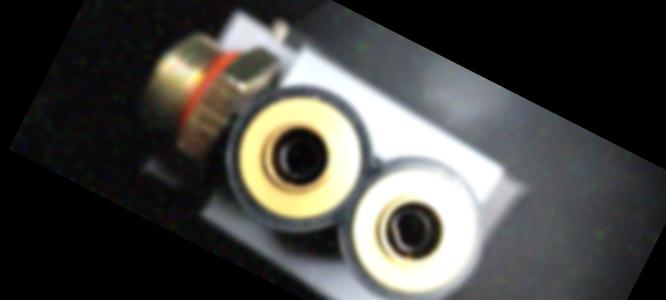off-centered: (379, 200, 442, 262)
